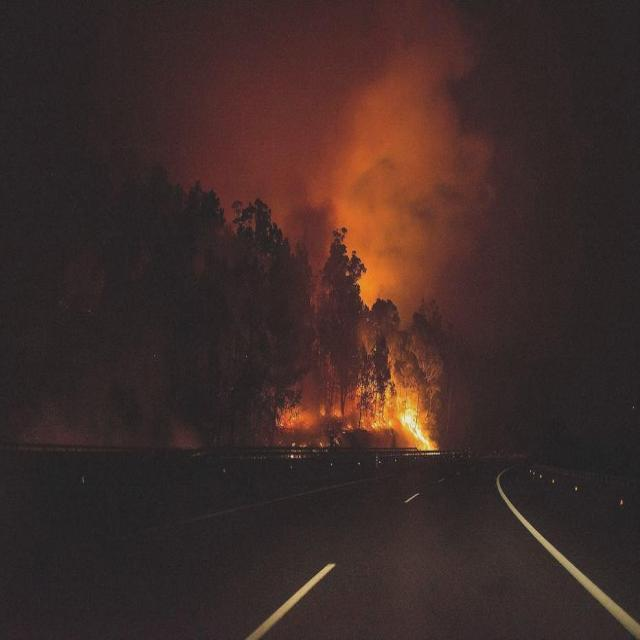Fire: (370, 372, 440, 452)
Smoke: (306, 1, 494, 333)
